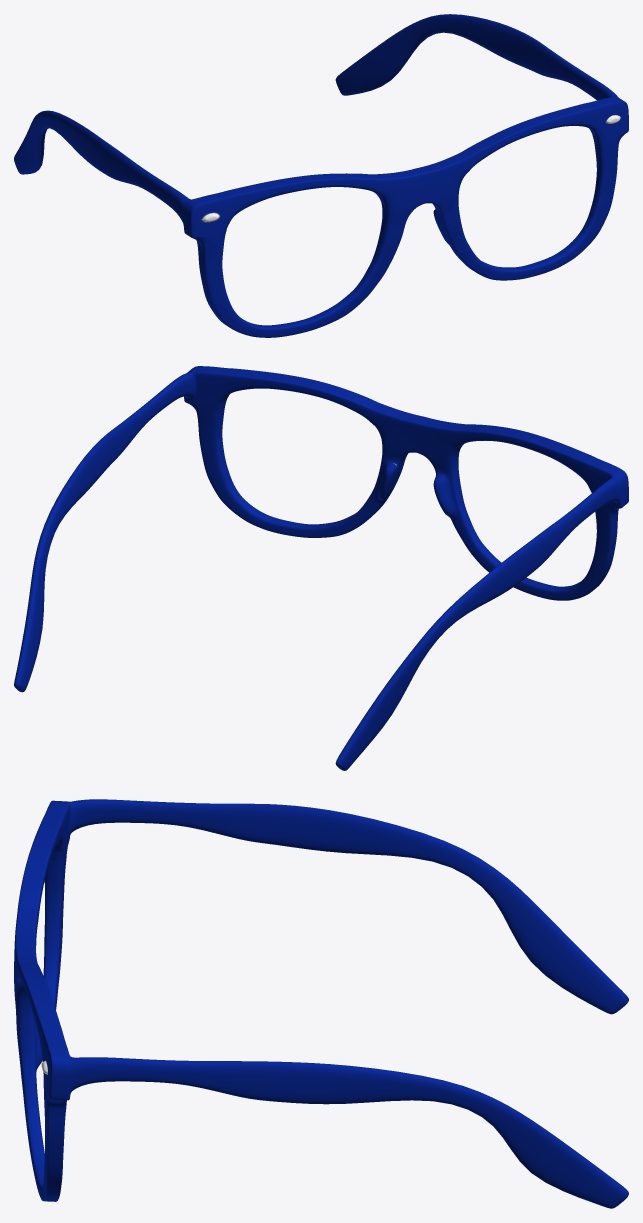
Rendered from wayfarer_sunglasses_eyeglasses_rims.glb.
The picture shows the model from 3 angles, top to bottom: view 1: azimuth 30°, elevation 25°; view 2: azimuth 150°, elevation 25°; view 3: azimuth 270°, elevation 25°; orthographic projection. The views are drawn at different scales.
Visible parts, largest first — view 1: glasses; view 2: glasses; view 3: glasses.
Part boxes in pixels (bbox=[...]): glasses: bbox=[14, 14, 628, 337]; glasses: bbox=[14, 366, 628, 770]; glasses: bbox=[14, 799, 628, 1208].
Bounding box in the file's own units: 15.75 × 5.3 × 15.51.
Materials: 1 (1 with a texture image).
